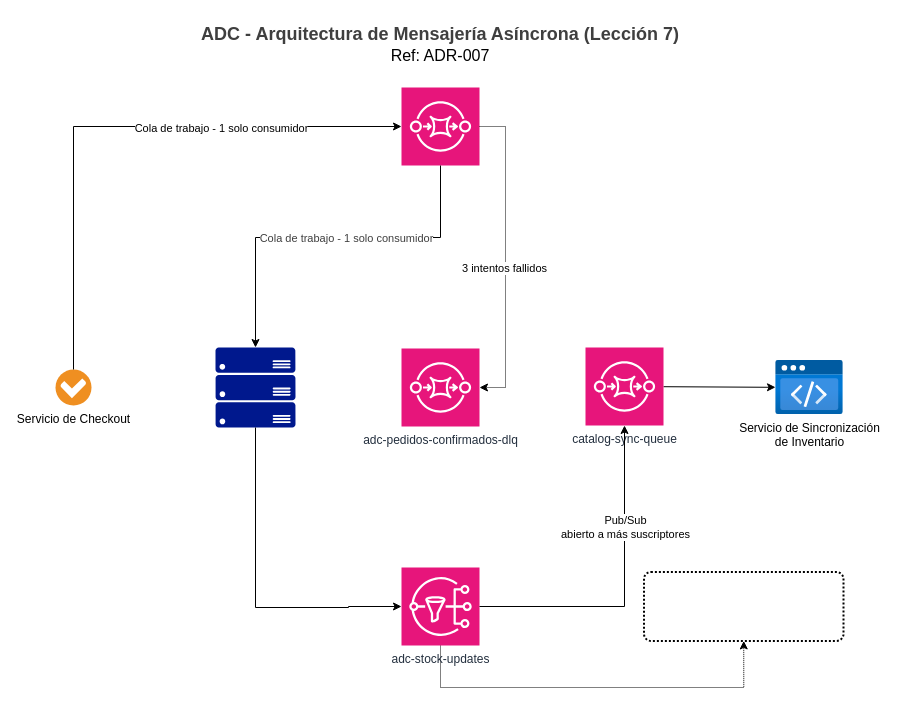
The diagram is 897 pixels wide and 713 high, and some of its shapes have lost their labels. Here are the shapes that lost their labels. From the top down, the centre of each, then its label:
the point at 440,126: adc-pedidos-confirmados.fifo
the point at 255,387: WMS
the point at 743,606: Futuro suscriptor ej. alerta de bajo stock
